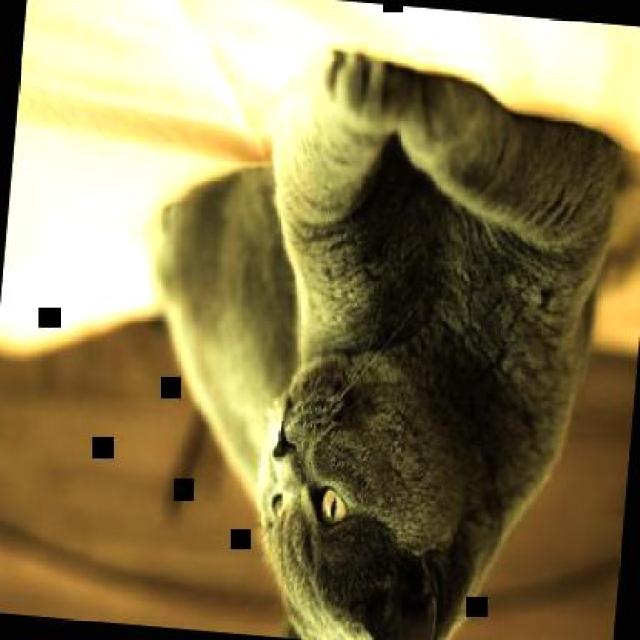cat: (123, 34, 632, 638)
